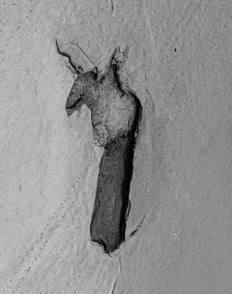paint-off: (0, 1, 232, 294)
